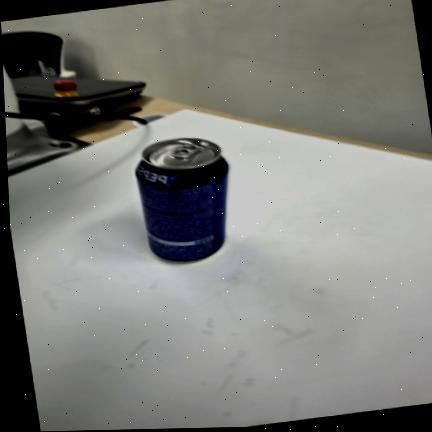can_pepsi: (136, 138, 228, 262)
